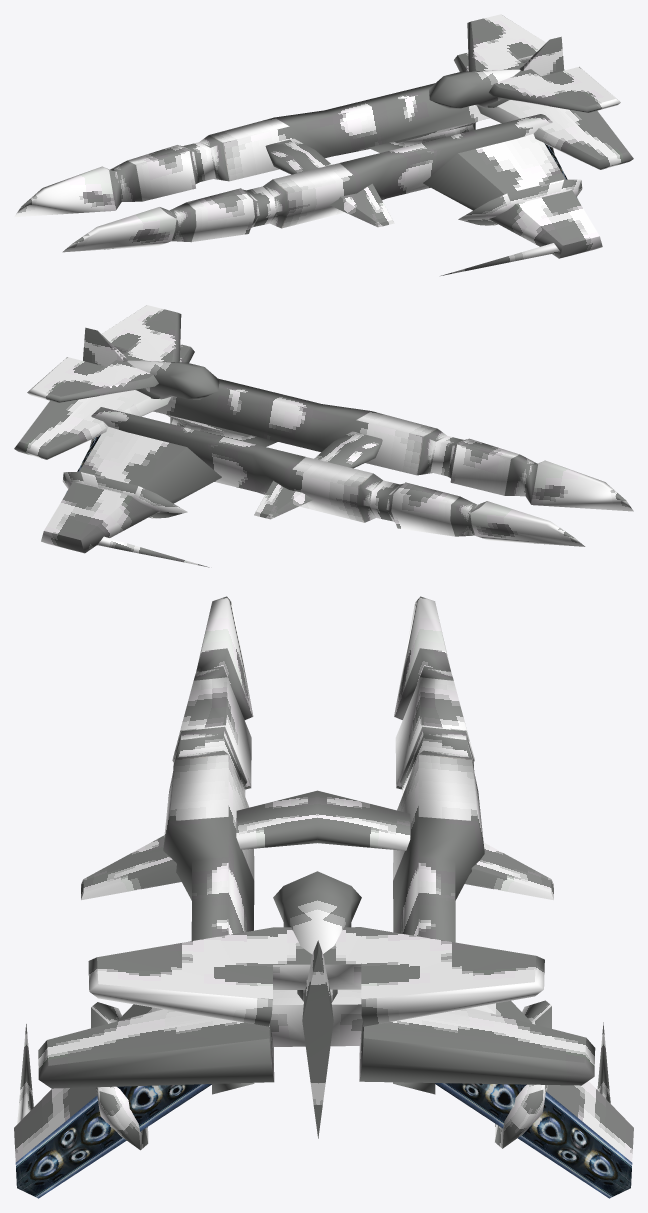
File: PTVF01A.obj
The picture shows the model from 3 angles, top to bottom: view 1: azimuth 30°, elevation 25°; view 2: azimuth 150°, elevation 25°; view 3: azimuth 270°, elevation 25°; orthographic projection. The views are drawn at different scales.
Parts seen in each view (by area): view 1: PTVF_ARM010; view 2: PTVF_ARM010; view 3: PTVF_ARM010, PTVF_JET20.
Boxes of the visible parts, bbox=[...] form: PTVF_ARM010: bbox=[14, 14, 633, 275]; PTVF_ARM010: bbox=[14, 305, 633, 567]; PTVF_ARM010: bbox=[14, 596, 633, 1162]; PTVF_JET20: bbox=[15, 1083, 632, 1198].
Size of the model in its own units: 110 by 29.45 by 58.18.
Materials: 2 (2 with a texture image).
